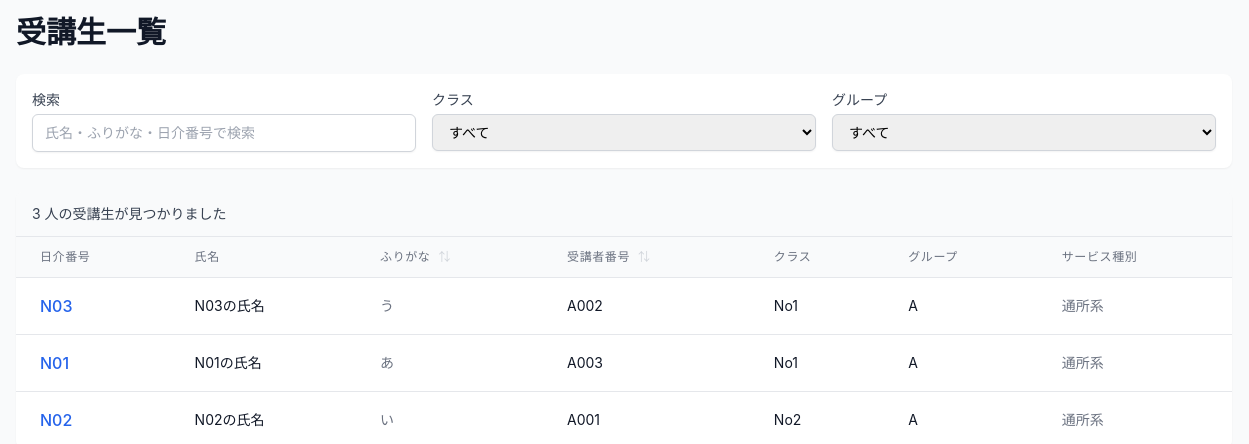
StudentsView (responsive table / cards) › 受講者番号の列（表・1280px 以上） › should sort by the header and show the direction indicator
The width and height of the screenshot is (1249, 444).
Click the column heading "受講者番号 ⇅" at (646, 257), box [543,237,750,278]
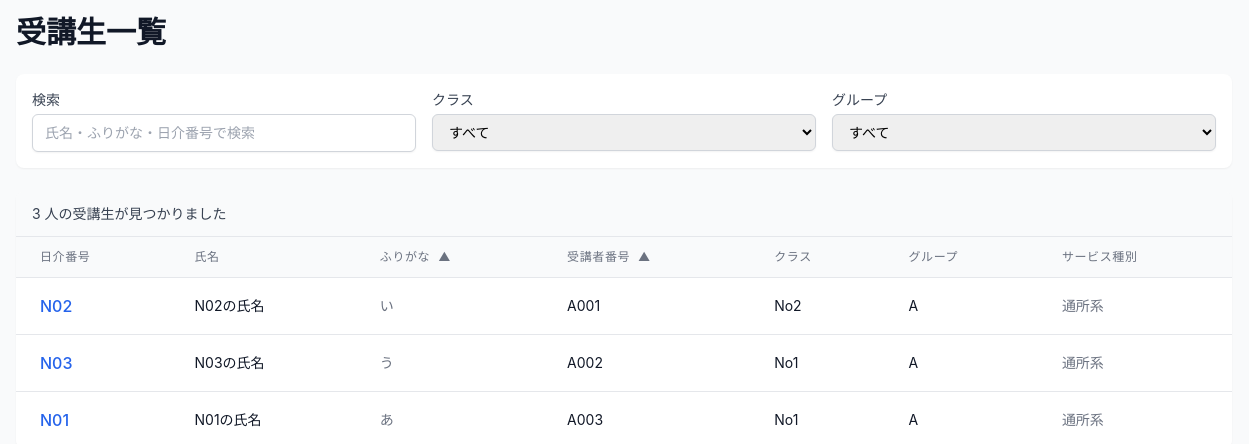
Check: the column heading "受講者番号 ▲" is shown
Click the column heading "受講者番号 ▲" at (647, 257), box [543,237,750,278]
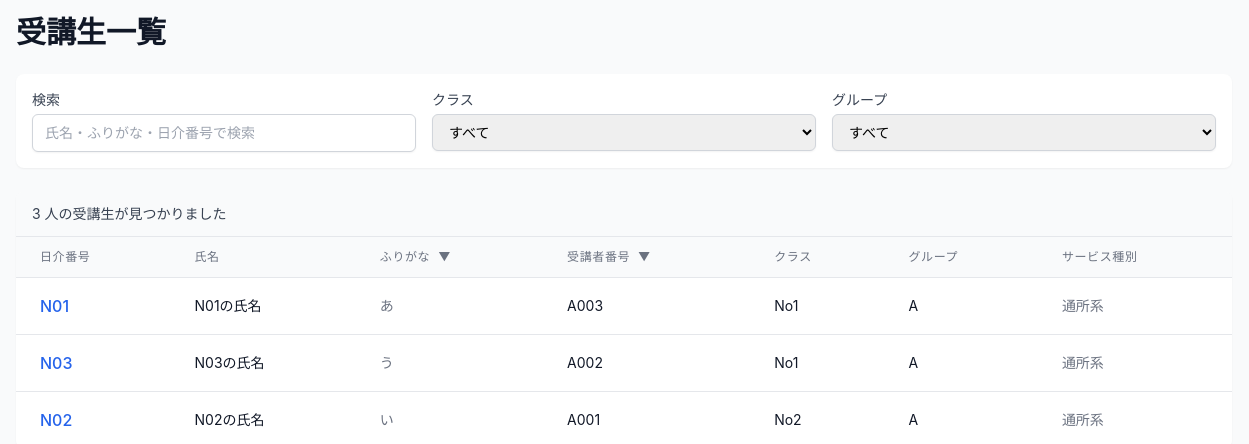
Check: the column heading "受講者番号 ▼" is shown
Click the column heading "受講者番号 ▼" at (647, 257), box [543,237,750,278]
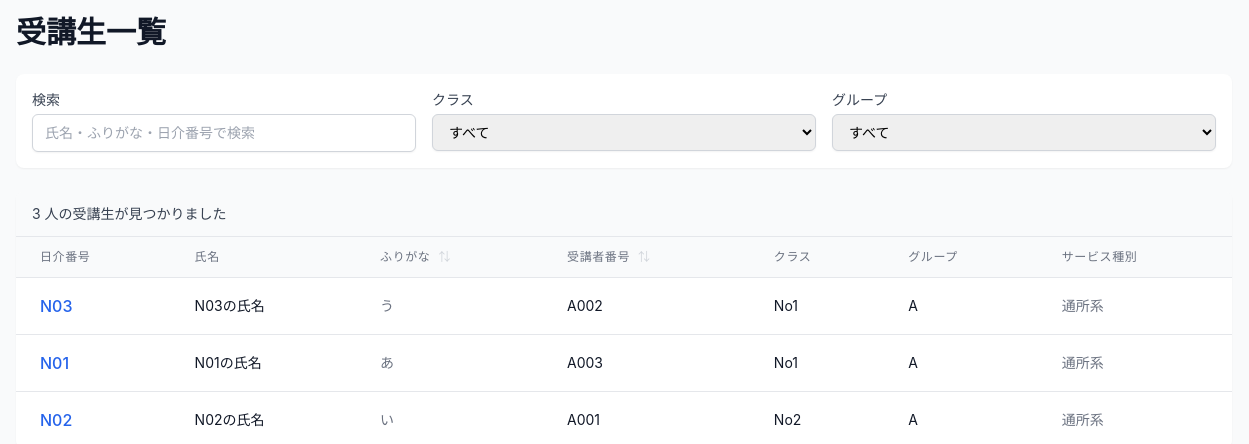
Check: the column heading "受講者番号 ⇅" is shown, box [543,237,750,278]
